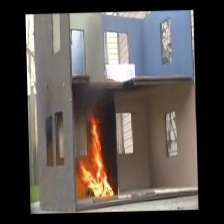fire: (75, 119, 112, 197)
